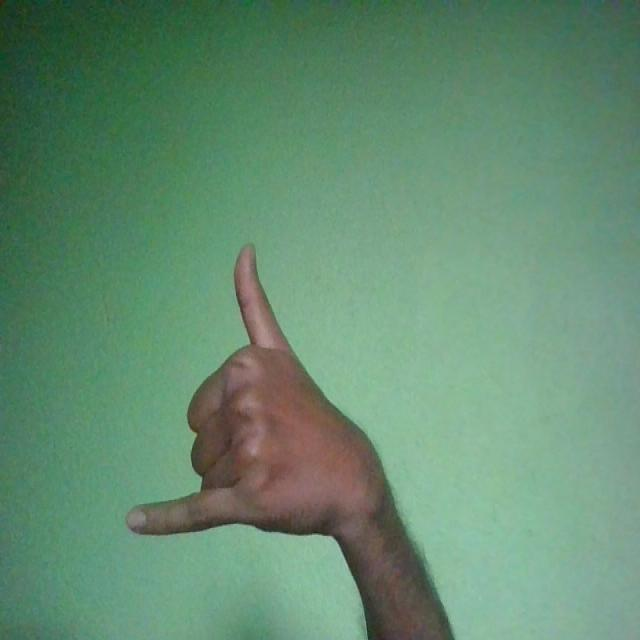Call Me: (127, 241, 393, 537)
